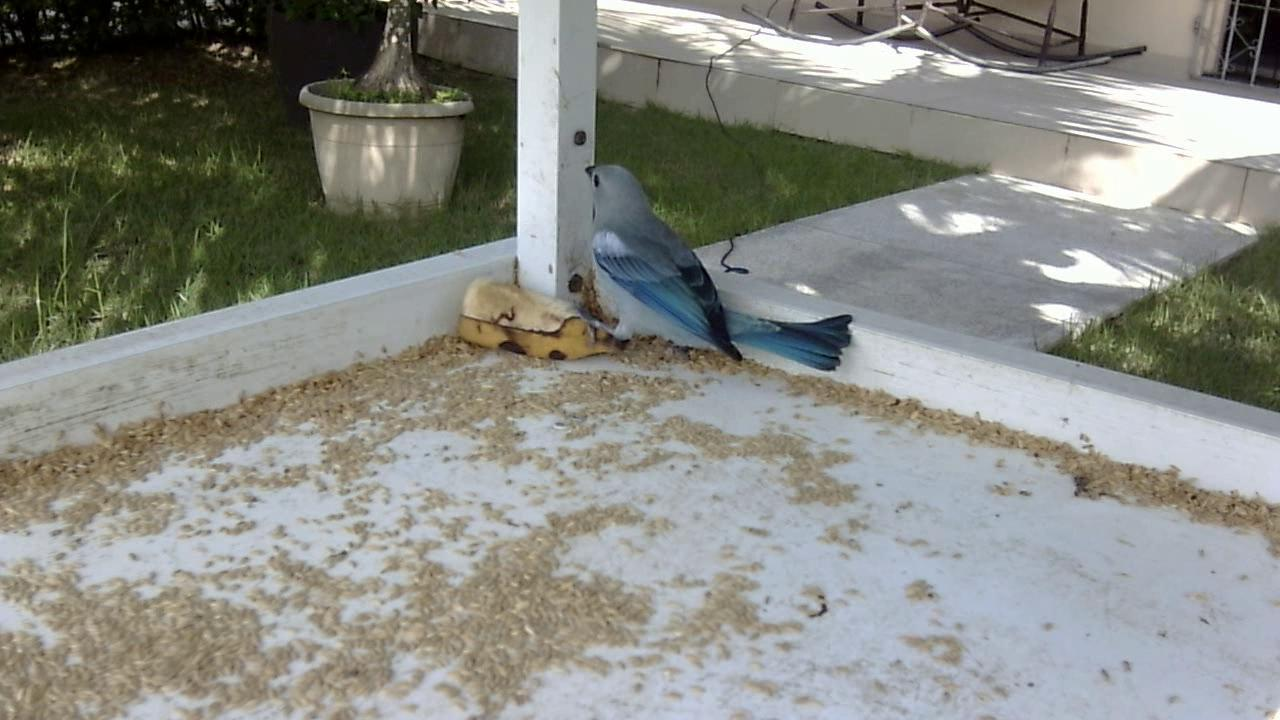sanhaco_da_amazonia: (561, 163, 876, 392)
